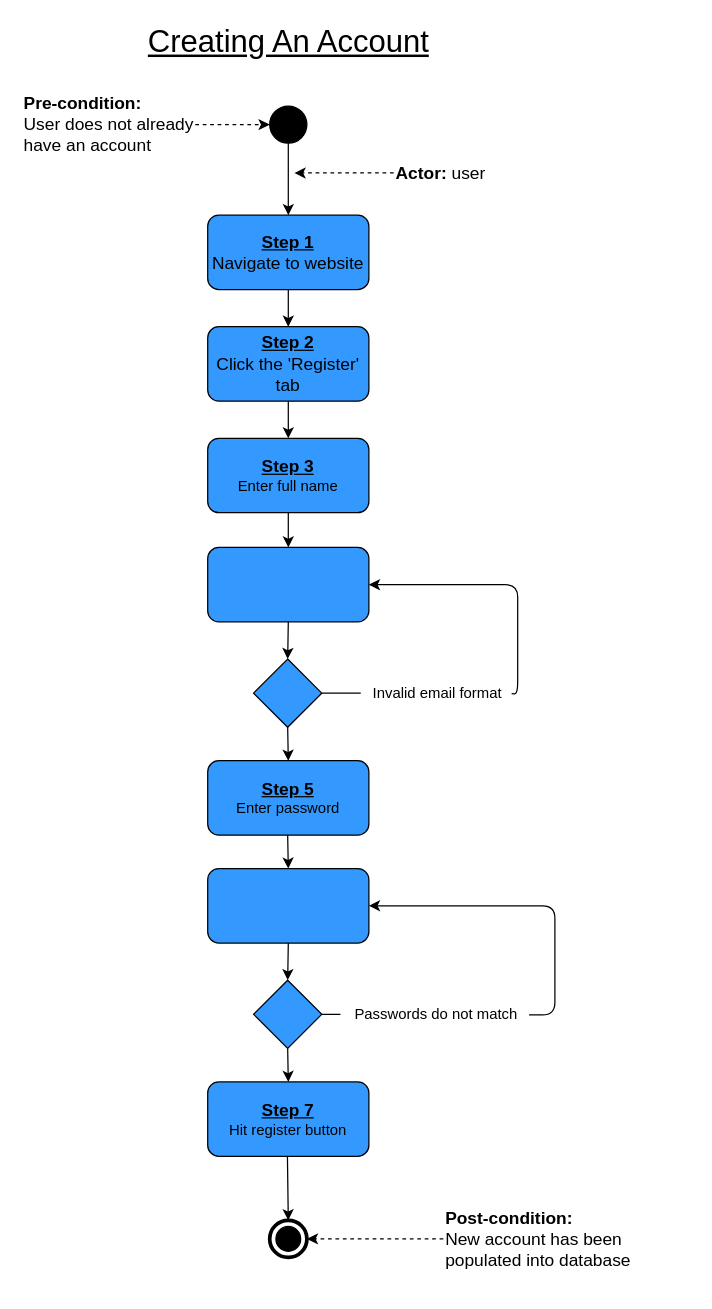
Some shapes in this 712 by 1309 pixel diagram are drawn without their labels. Here are the shapes that lost their labels. From the top down, the box of each, then its label:
(206, 546, 369, 622): Step 4 Enter email
(206, 867, 369, 943): Step 6 Re-enter password
